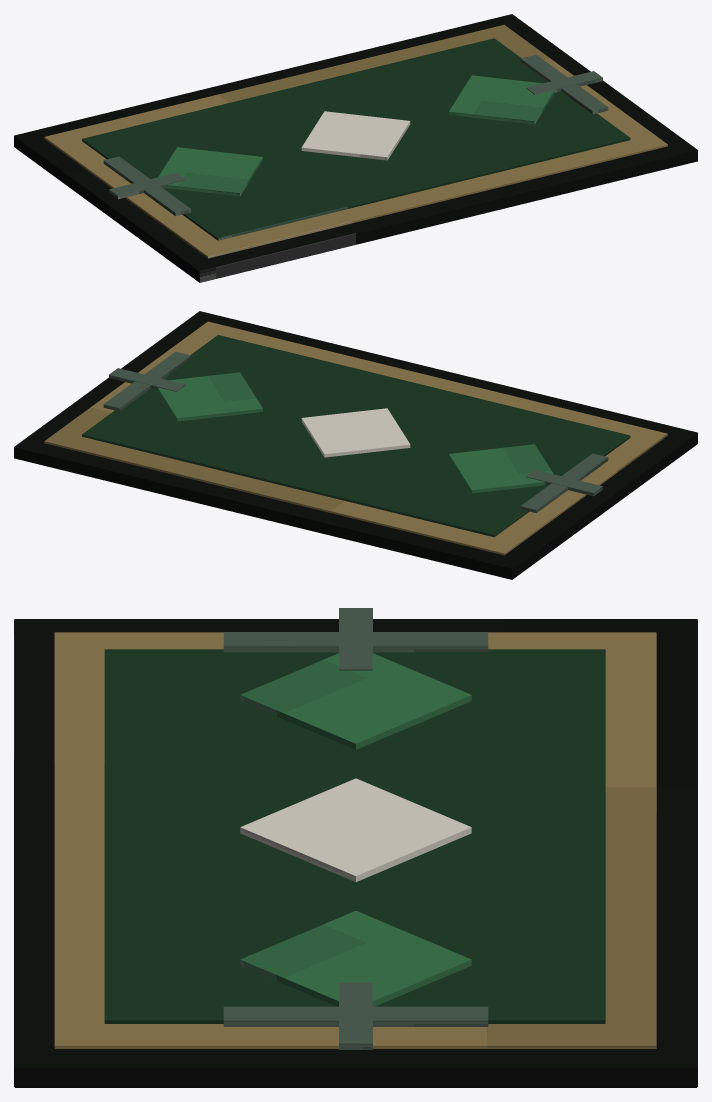
Rendered from gothic_bedroom_rug_forest.glb.
3 views of the same model, one above another, from view 1: azimuth 30°, elevation 25°; view 2: azimuth 150°, elevation 25°; view 3: azimuth 270°, elevation 25° (orthographic). The views are drawn at different scales.
Parts seen in each view (by area): view 1: RugField, RugBase, RugBorder, GothicDiamond0.0, GothicDiamond0.65, GothicDiamond-0.65, RugCrossV0.92, RugCrossV-0.92, RugCrossH-0.92, RugCrossH0.92; view 2: RugField, RugBase, RugBorder, GothicDiamond0.0, GothicDiamond0.65, GothicDiamond-0.65, RugCrossV0.92, RugCrossV-0.92, RugCrossH-0.92, RugCrossH0.92; view 3: RugField, RugBase, RugBorder, GothicDiamond0.0, GothicDiamond-0.65, GothicDiamond0.65, RugCrossV0.92, RugCrossV-0.92, RugCrossH0.92, RugCrossH-0.92.
Boxes of the visible parts, x1,y1,x2,y2 form: RugField: [82, 38, 630, 240]; RugBase: [14, 14, 697, 282]; RugBorder: [44, 24, 667, 258]; GothicDiamond0.0: [301, 111, 410, 160]; GothicDiamond0.65: [449, 75, 554, 124]; GothicDiamond-0.65: [158, 147, 262, 196]; RugCrossV0.92: [520, 54, 608, 114]; RugCrossV-0.92: [103, 156, 191, 216]; RugCrossH-0.92: [109, 173, 185, 199]; RugCrossH0.92: [526, 71, 602, 94]; RugField: [82, 335, 630, 537]; RugBase: [14, 311, 697, 579]; RugBorder: [44, 321, 667, 555]; GothicDiamond0.0: [301, 408, 410, 457]; GothicDiamond0.65: [157, 372, 262, 421]; GothicDiamond-0.65: [449, 444, 553, 493]; RugCrossV0.92: [103, 351, 191, 411]; RugCrossV-0.92: [520, 453, 608, 513]; RugCrossH-0.92: [526, 470, 602, 496]; RugCrossH0.92: [109, 368, 185, 391]; RugField: [104, 649, 605, 1023]; RugBase: [14, 619, 697, 1087]; RugBorder: [54, 632, 656, 1048]; GothicDiamond0.0: [240, 778, 471, 881]; GothicDiamond-0.65: [240, 653, 471, 749]; GothicDiamond0.65: [240, 911, 471, 1006]; RugCrossV0.92: [223, 1006, 488, 1026]; RugCrossV-0.92: [223, 632, 488, 652]; RugCrossH0.92: [339, 982, 372, 1049]; RugCrossH-0.92: [339, 608, 372, 670].
Size of the model in its own units: 2.2 by 0.088 by 1.42.
Materials: 1 (1 with a texture image).
